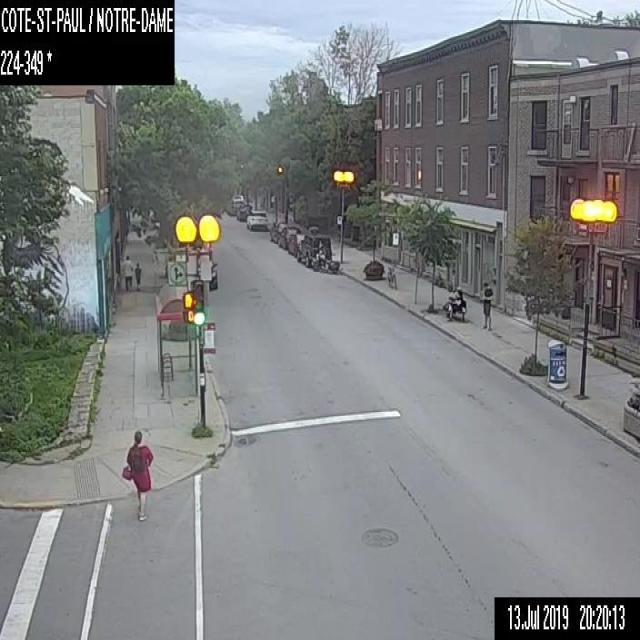pedestrian: (121, 427, 154, 522), (478, 280, 494, 331), (445, 285, 461, 319), (121, 253, 133, 291), (133, 260, 141, 290)
vehicle: (296, 232, 331, 266), (310, 244, 339, 274), (190, 258, 217, 290), (277, 225, 298, 249), (246, 209, 268, 230), (225, 193, 243, 214), (287, 234, 303, 255), (269, 221, 283, 243), (237, 206, 250, 219)
